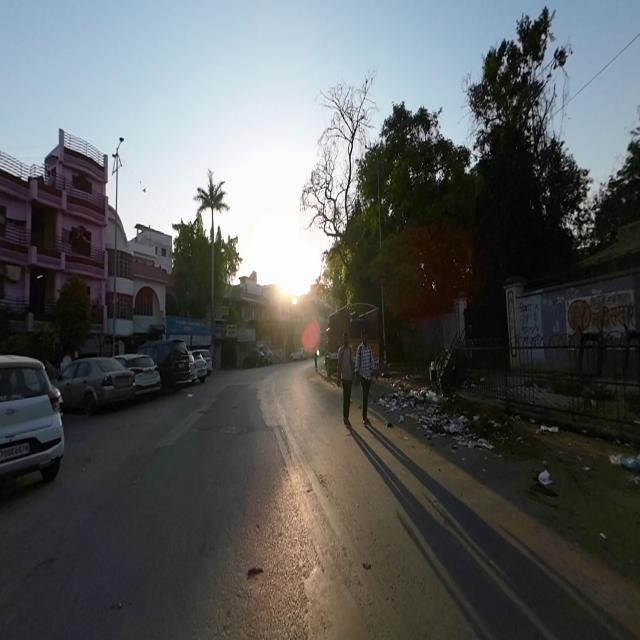Garbage: (440, 408, 502, 453), (389, 387, 440, 428), (603, 447, 640, 475), (504, 414, 528, 452), (534, 413, 560, 440), (538, 463, 555, 489), (380, 393, 388, 408)
